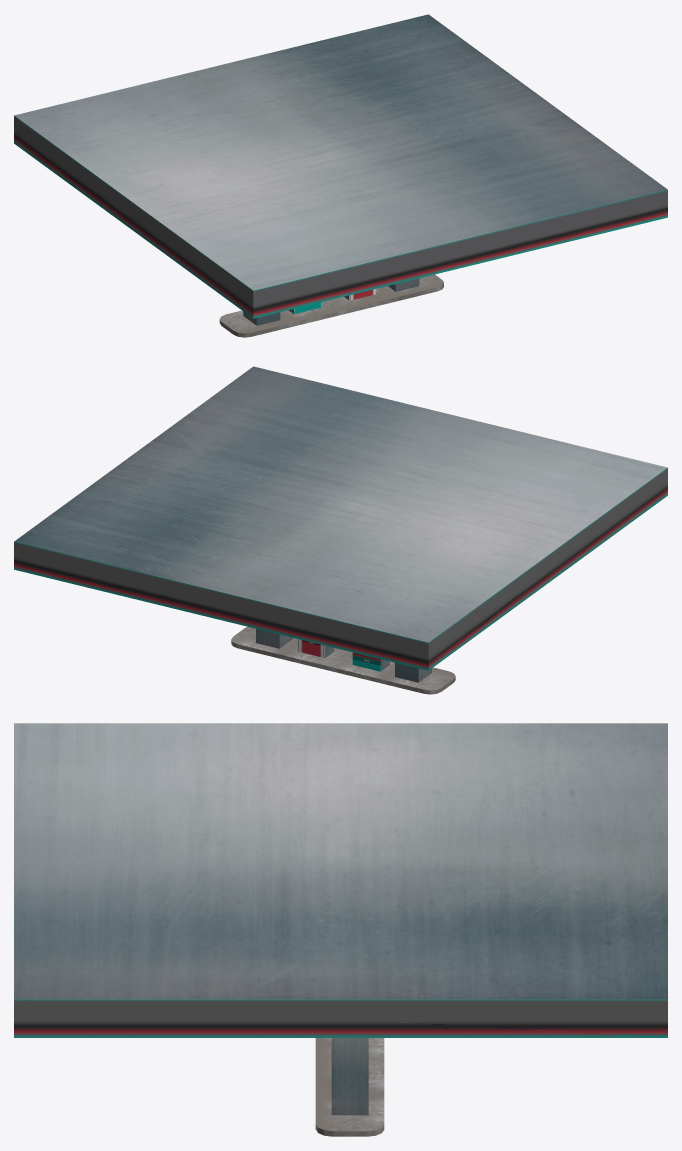
Rendered from GAS_STATION.fbx.
3 views of the same model, one above another, from view 1: azimuth 30°, elevation 25°; view 2: azimuth 150°, elevation 25°; view 3: azimuth 270°, elevation 25° (orthographic). The views are drawn at different scales.
Visible parts, largest first — view 1: GAS_STATION; view 2: GAS_STATION; view 3: GAS_STATION.
Boxes of the visible parts, <box> form: GAS_STATION: <box>14,14,667,337</box>; GAS_STATION: <box>14,366,667,694</box>; GAS_STATION: <box>14,723,667,1136</box>.
Bounding box in the file's own units: 1677 × 593 × 1677.
